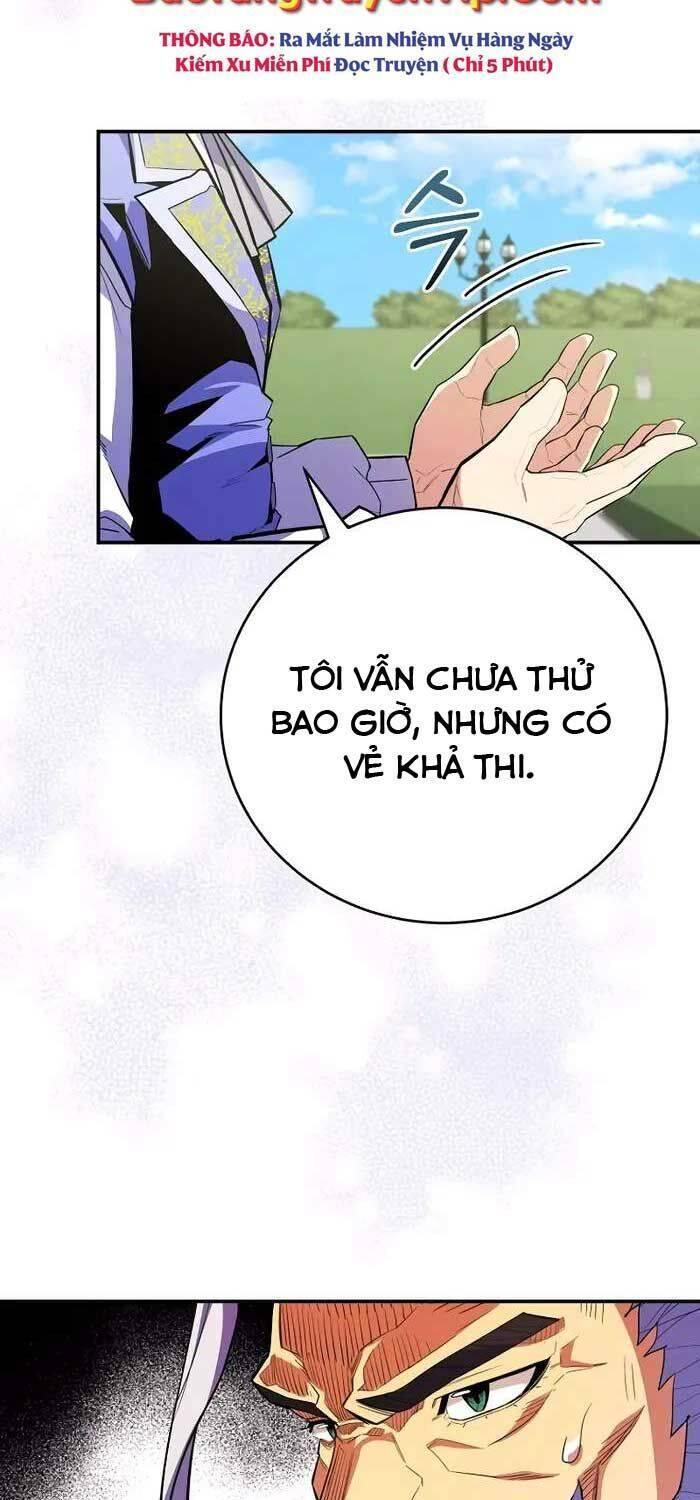quangcao: (116, 0, 618, 98)
